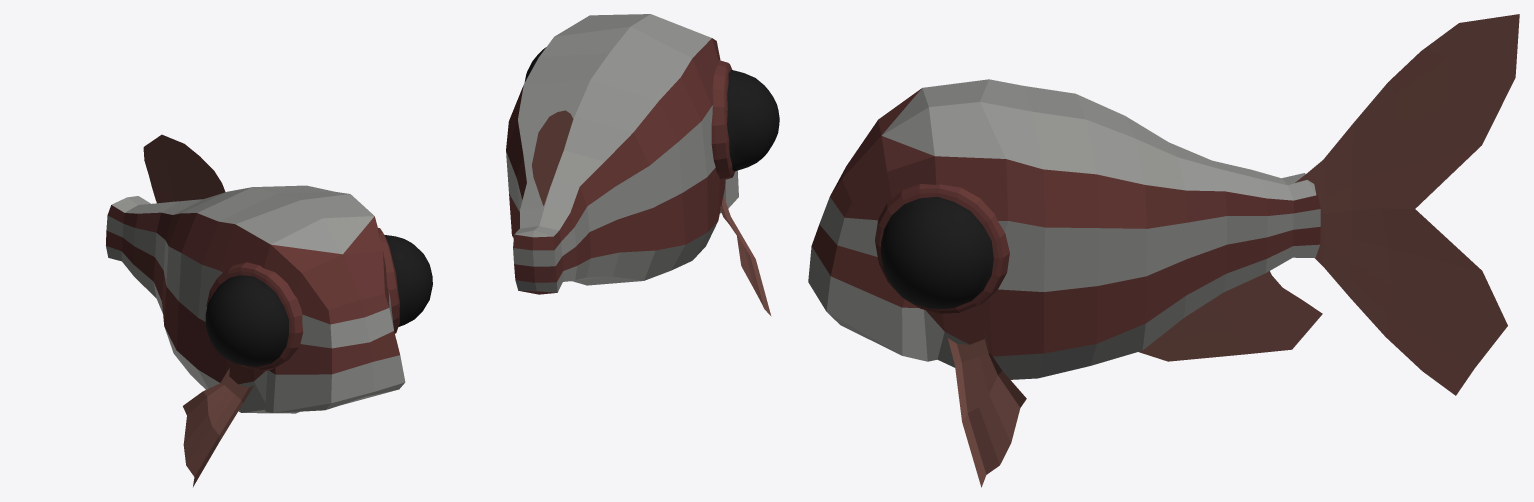
File: CardinalFish.glb
The picture shows the model from 3 angles, left to right: view 1: azimuth 30°, elevation 25°; view 2: azimuth 150°, elevation 25°; view 3: azimuth 270°, elevation 25°; orthographic projection. The views are drawn at different scales.
Parts seen in each view (by area): view 1: CardinalFish; view 2: CardinalFish; view 3: CardinalFish.
Boxes of the visible parts, <box> form: CardinalFish: <box>106,134,432,486</box>; CardinalFish: <box>506,14,779,316</box>; CardinalFish: <box>808,14,1519,487</box>.
Bounding box in the file's own units: 2.55 × 3.34 × 5.51.
